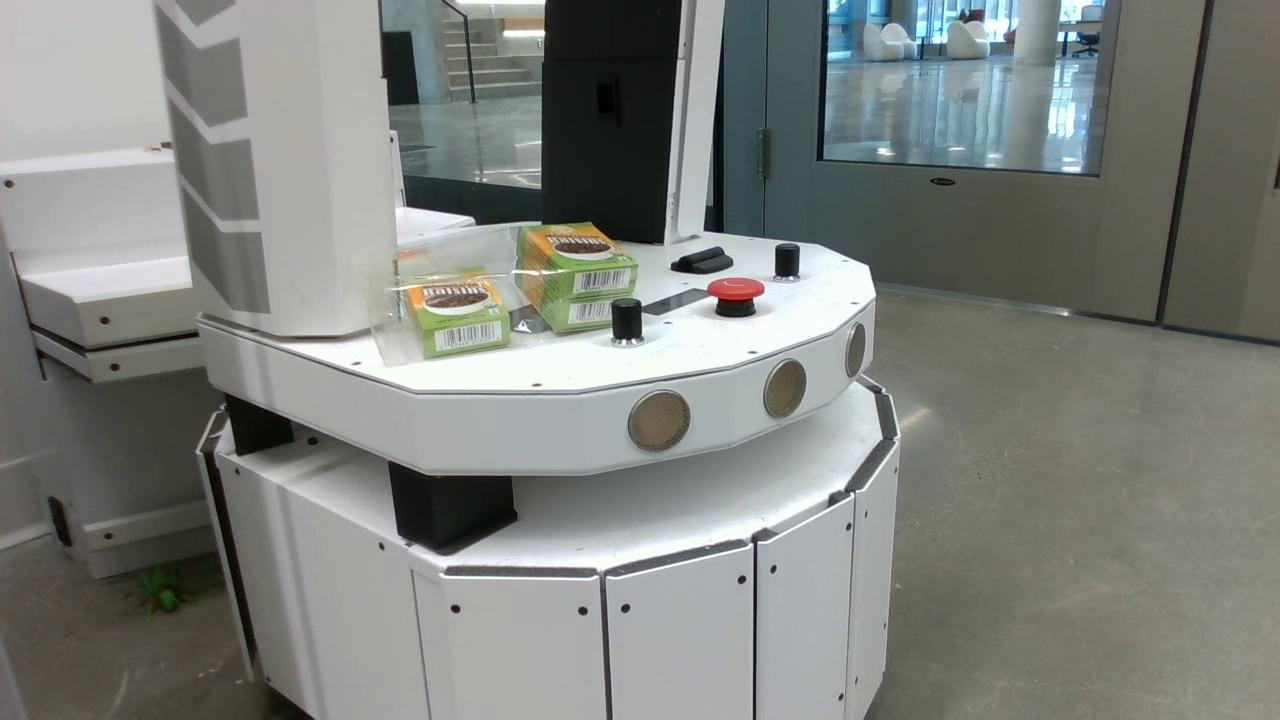grasshopper: (136, 563, 198, 616)
